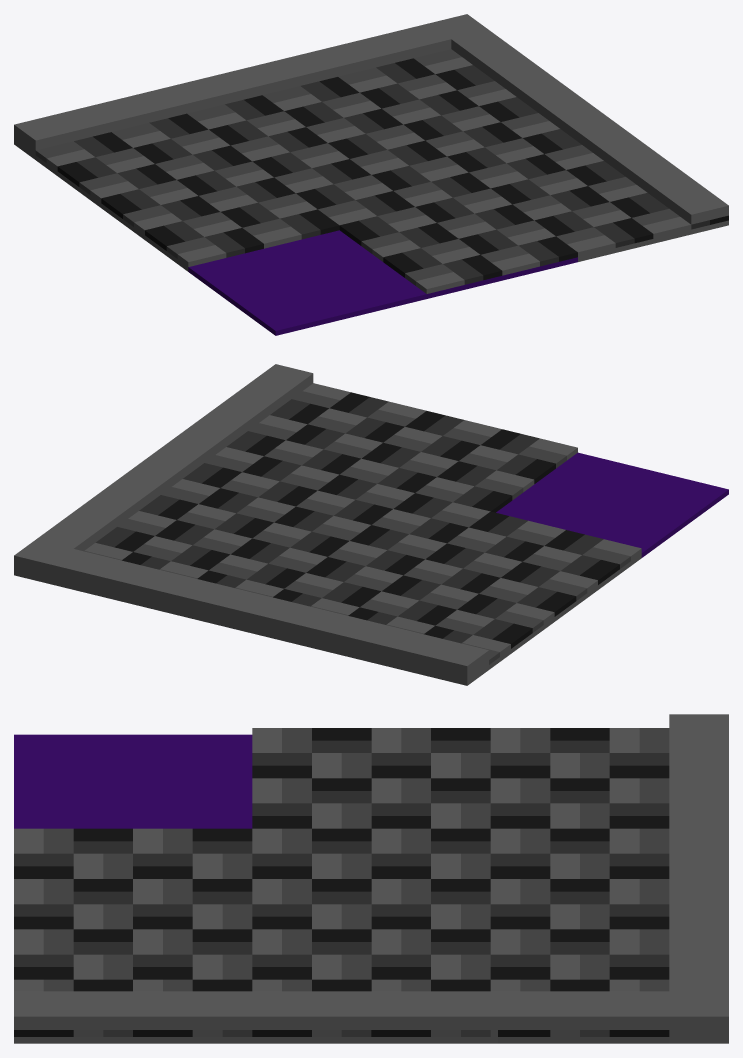
Rendered from brick_ground2.obj.
3 renders of one model, top to bottom at view 1: azimuth 30°, elevation 25°; view 2: azimuth 150°, elevation 25°; view 3: azimuth 270°, elevation 25°, orthographic. The views are drawn at different scales.
Bounding box in the file's own units: 9.6 × 0.4 × 9.6.
Materials: 1 (1 with a texture image).
